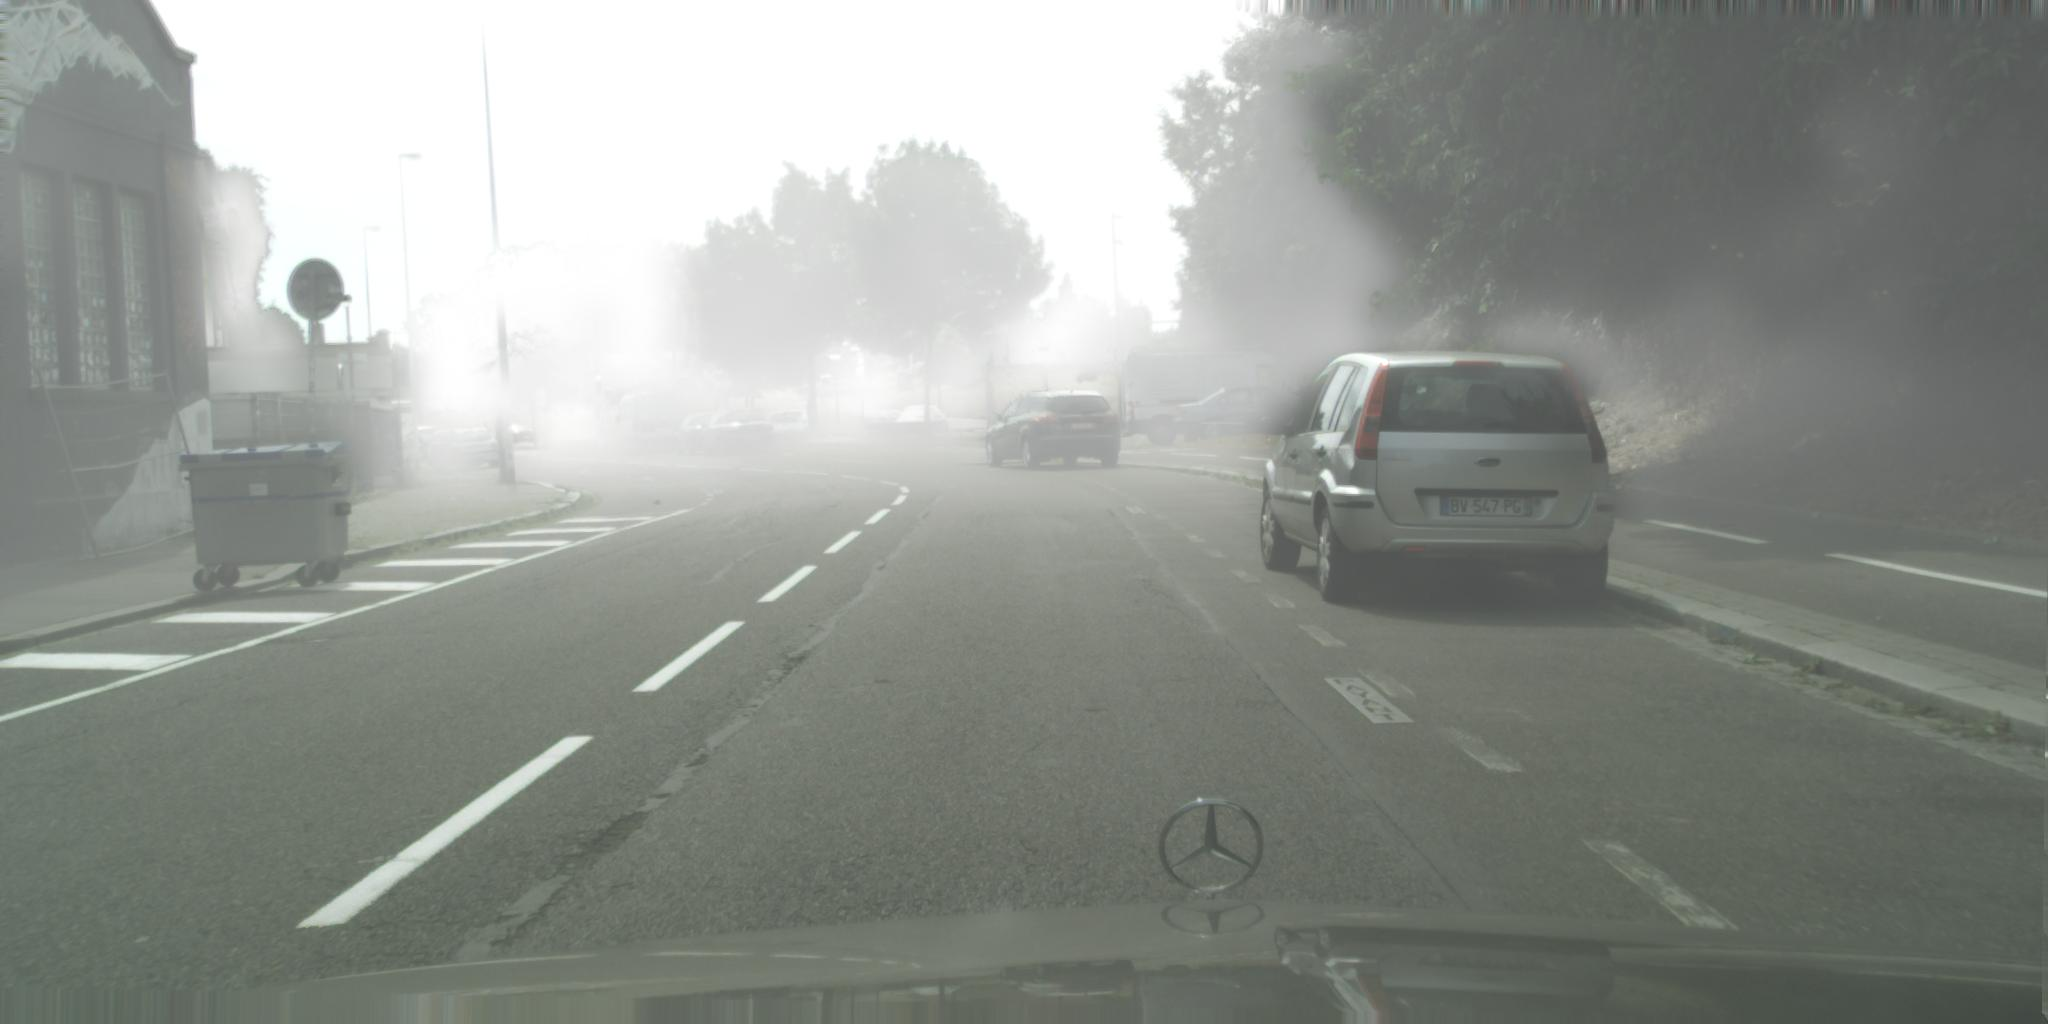car: (1260, 353, 1617, 606), (1122, 344, 1326, 447), (987, 389, 1122, 472), (1173, 387, 1313, 445), (616, 391, 684, 455), (697, 408, 777, 456), (441, 427, 504, 474), (674, 413, 728, 455), (423, 428, 469, 472), (893, 405, 950, 438), (767, 410, 822, 441), (865, 411, 906, 440), (408, 427, 443, 452), (505, 424, 537, 444)
